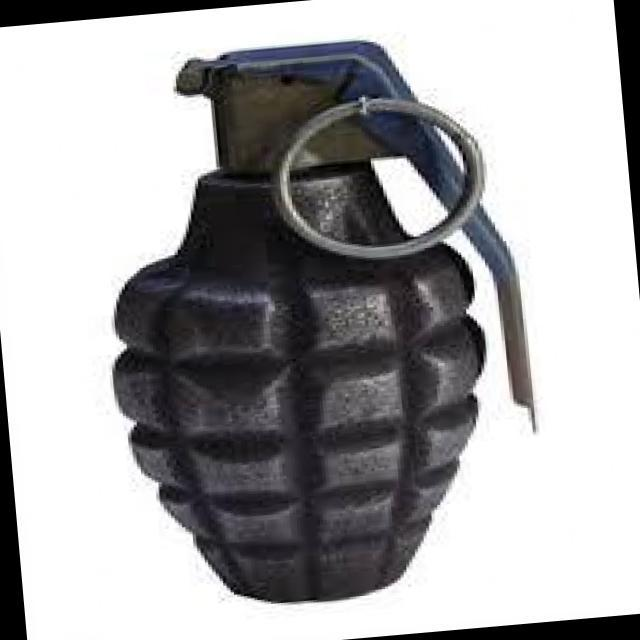grenade: (86, 19, 566, 618)
